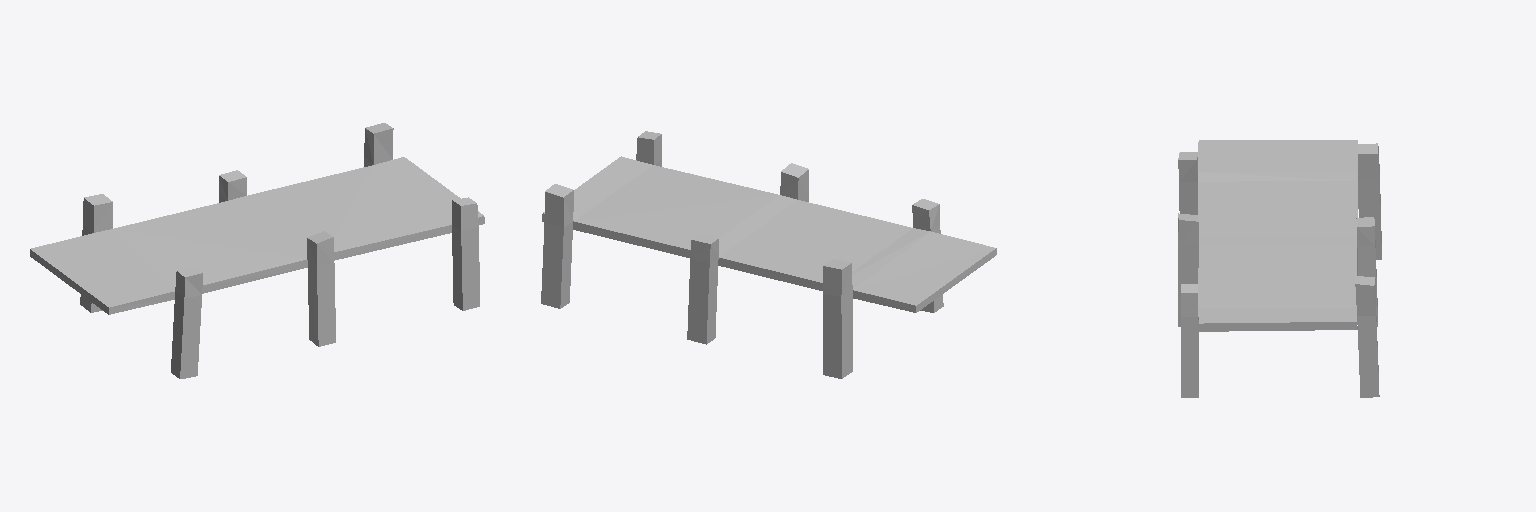
Rendered from Jetty.obj.
The picture shows the model from 3 angles: view 1: azimuth 30°, elevation 25°; view 2: azimuth 150°, elevation 25°; view 3: azimuth 270°, elevation 25°; orthographic projection.
Visible parts, largest first — view 1: Cube; view 2: Cube; view 3: Cube.
Boxes of the visible parts, x1,y1,x2,y2 form: Cube: [30, 123, 484, 378]; Cube: [541, 131, 996, 378]; Cube: [1178, 140, 1381, 397].
Bounding box in the file's own units: 5.43 × 1.58 × 2.55.